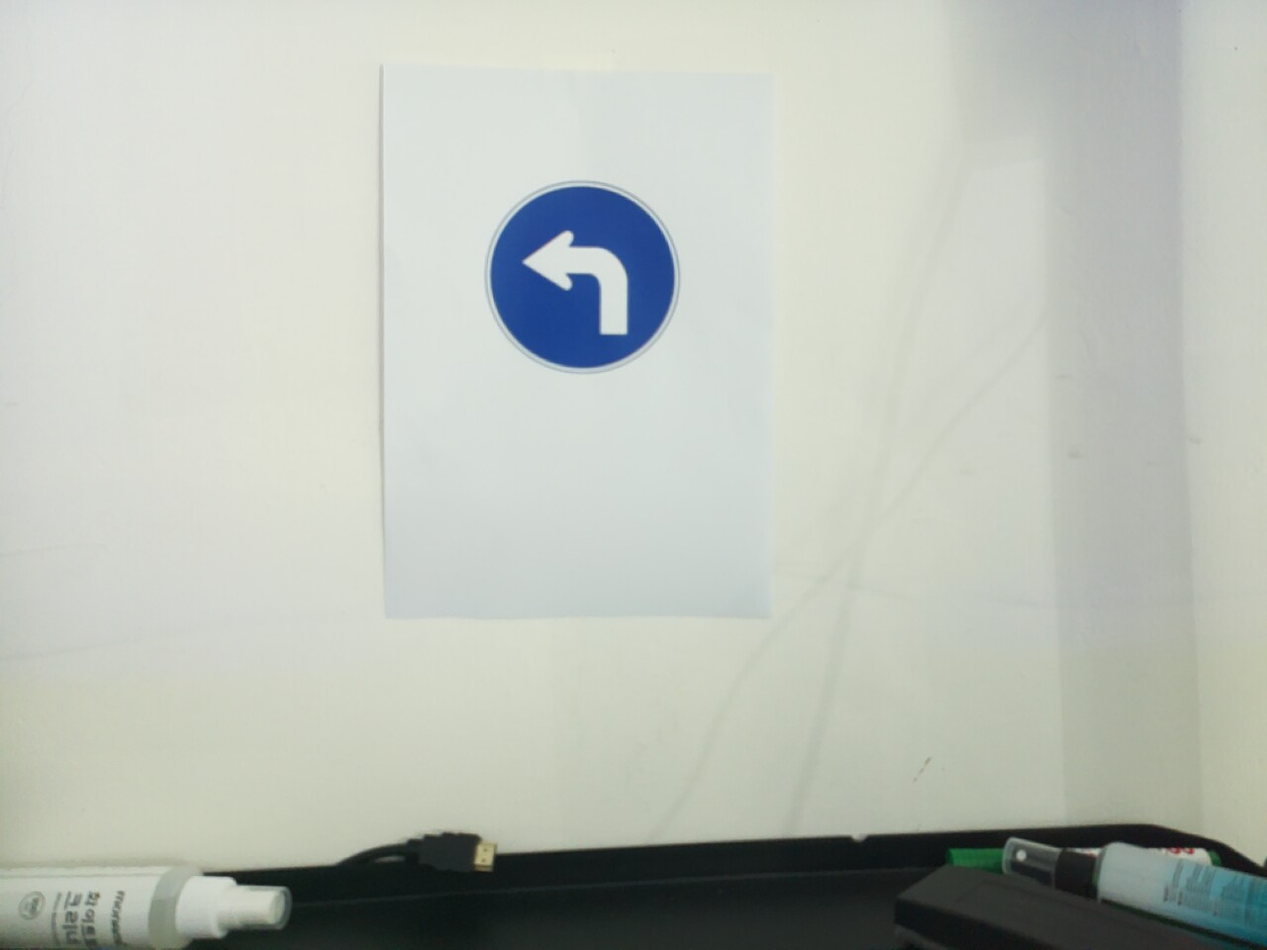left_turn: (483, 179, 682, 375)
